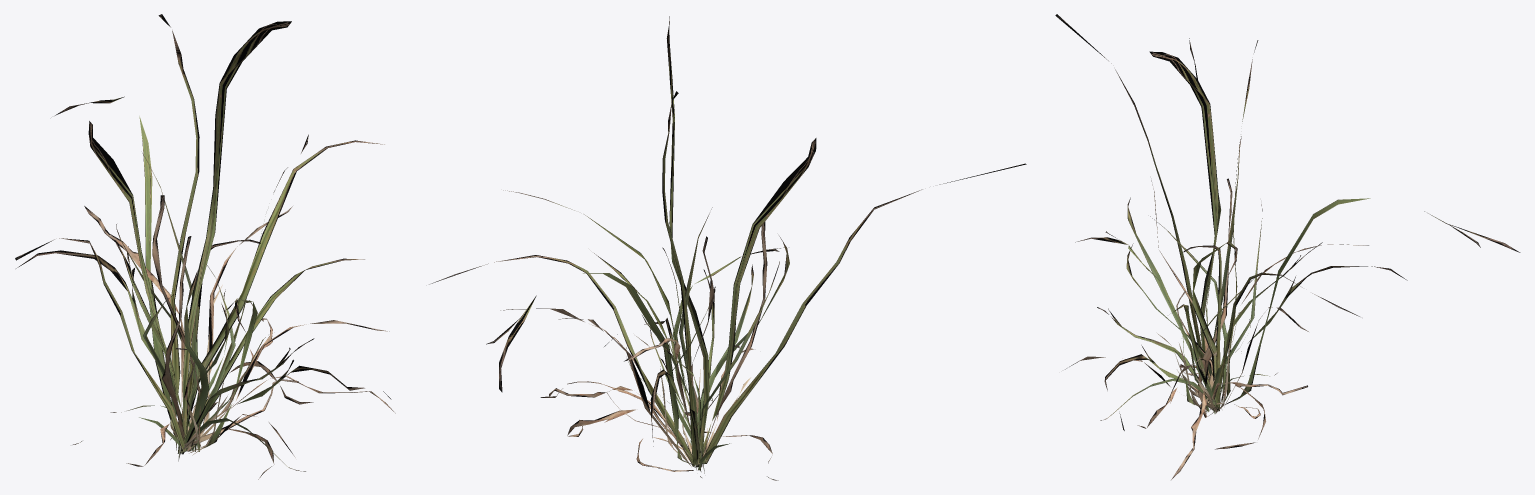
The model's file is plant_grass_medium_02.glb.
3 renders of one model, left to right at view 1: azimuth 30°, elevation 25°; view 2: azimuth 150°, elevation 25°; view 3: azimuth 270°, elevation 25°, orthographic. The views are drawn at different scales.
Visible parts, largest first — view 1: grassDryB, grassDryA; view 2: grassDryB, grassDryA; view 3: grassDryB, grassDryA.
Boxes of the visible parts, x1,y1,x2,y2 form: grassDryB: (15,14,395,479); grassDryA: (73,153,314,471); grassDryB: (429,16,1026,473); grassDryA: (540,207,779,480); grassDryB: (1055,14,1520,479); grassDryA: (1097,136,1322,420).
Bounding box in the file's own units: 0.2524 × 0.2313 × 0.2462.
Materials: 1 (1 with a texture image).
